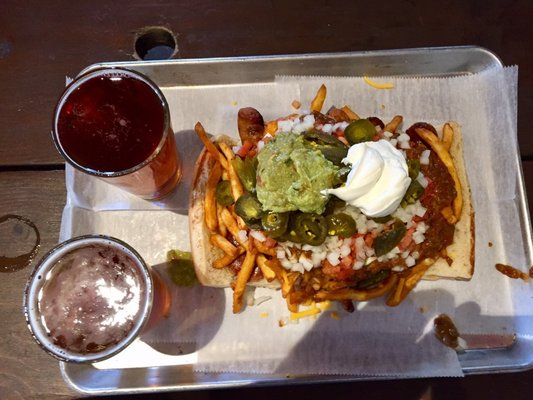pizza: (52, 64, 183, 211)
soup: (188, 104, 473, 316)
sushi: (25, 234, 153, 367)
